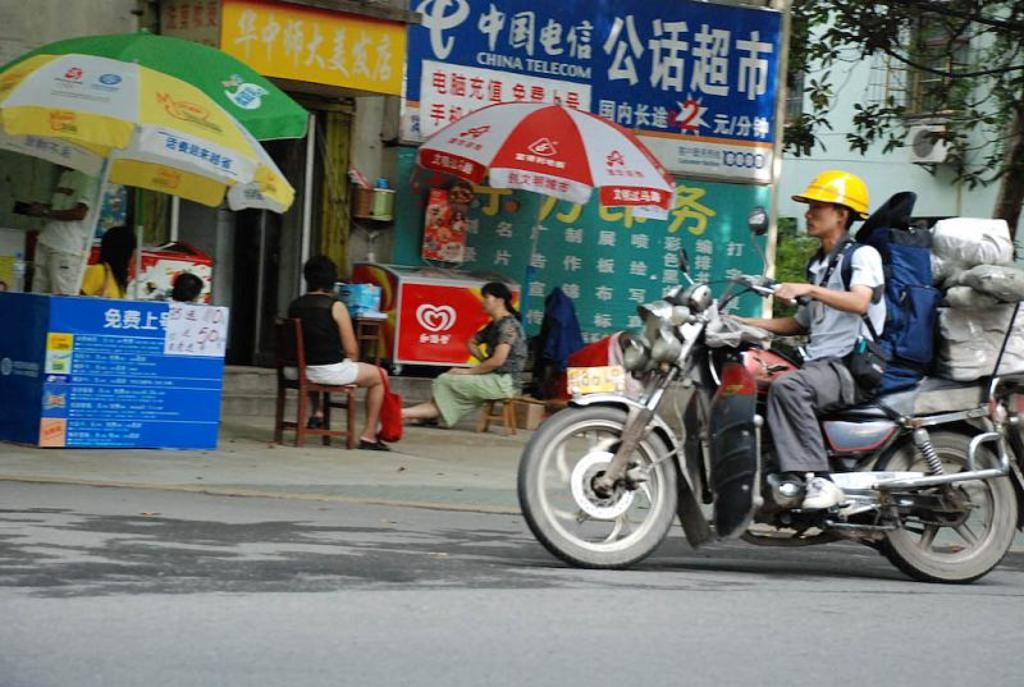helmet: (791, 170, 869, 236)
nohelmet: (99, 225, 140, 272), (302, 253, 338, 297), (480, 281, 511, 316)
